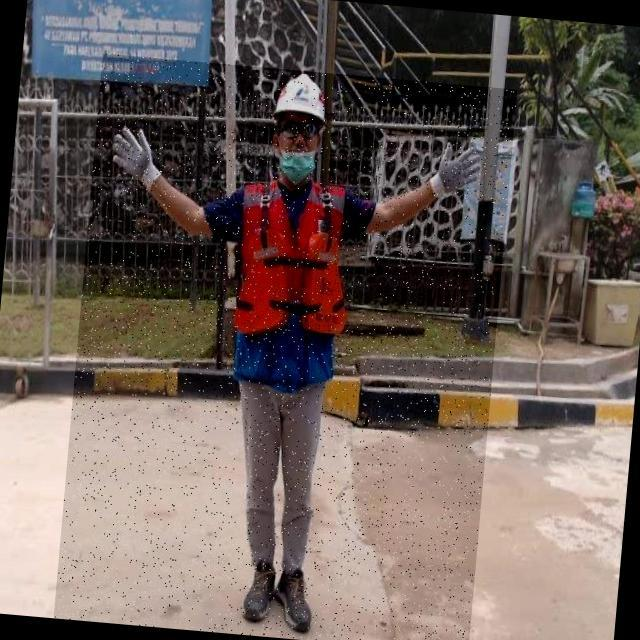Helmet: (273, 71, 331, 128)
Human: (53, 53, 517, 640)
Safety Boot: (268, 569, 319, 637), (242, 555, 277, 625)
Safety Vest: (225, 176, 361, 390)
